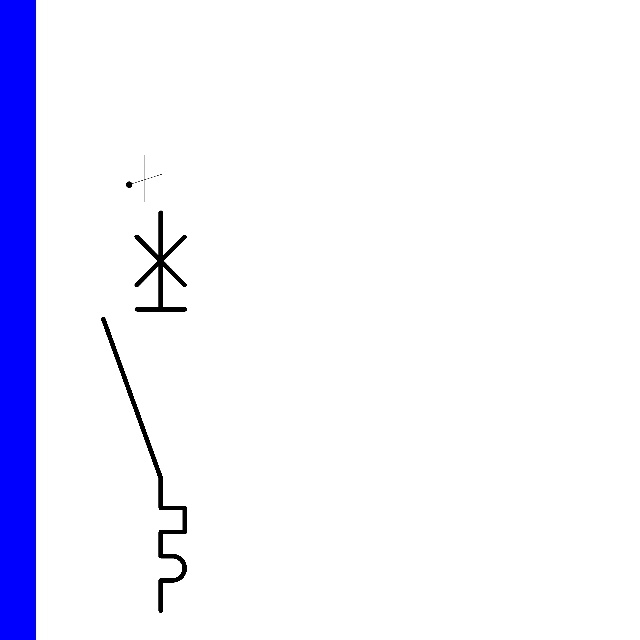interruptor_termomagnetico: (93, 202, 195, 621)
